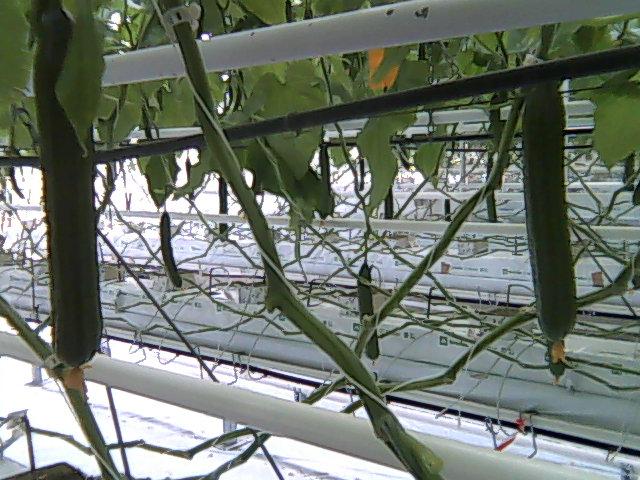concombre: (30, 8, 103, 406), (518, 79, 581, 365)
